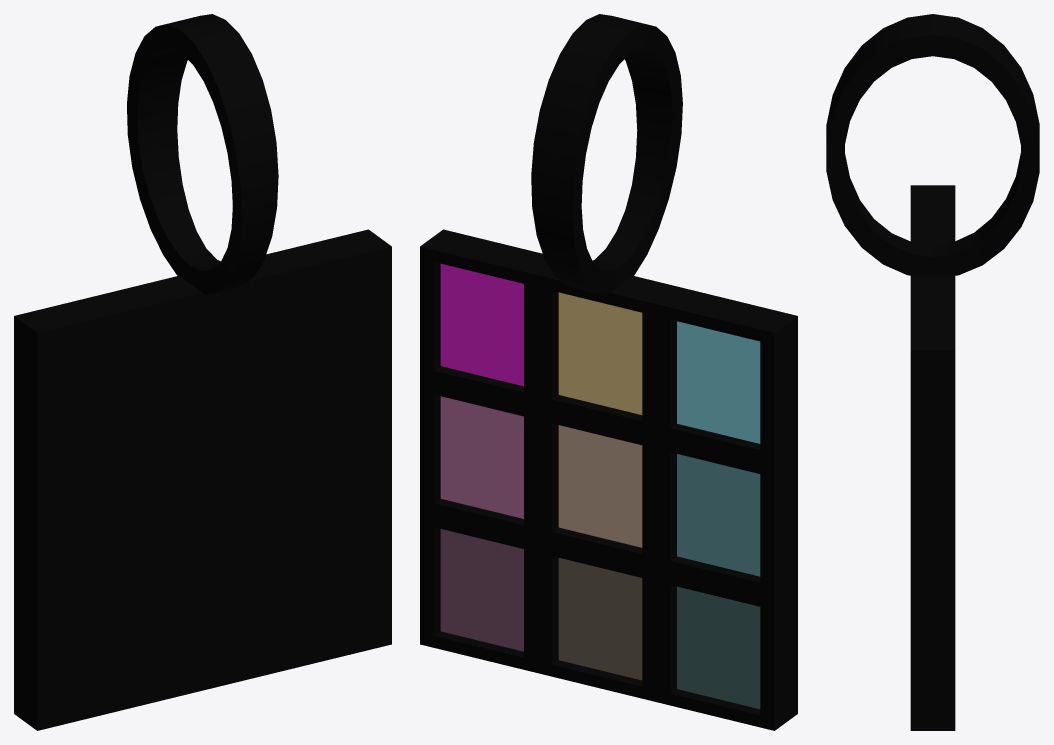
File: Small_Eyeshadow_Palette.fbx
3 views of the same model, side by side, from view 1: azimuth 30°, elevation 25°; view 2: azimuth 150°, elevation 25°; view 3: azimuth 270°, elevation 25° (orthographic). The views are drawn at different scales.
Visible parts, largest first — view 1: Eyeshadow_palette1, Eyeshadow_Palette; view 2: Eyeshadow_palette1, Eyeshadow_Palette; view 3: Eyeshadow_palette1, Eyeshadow_Palette.
Boxes of the visible parts, left/top/right/bottom form: Eyeshadow_palette1: left=14, top=229, right=391, bottom=730; Eyeshadow_Palette: left=127, top=14, right=278, bottom=294; Eyeshadow_palette1: left=420, top=229, right=797, bottom=730; Eyeshadow_Palette: left=531, top=14, right=682, bottom=294; Eyeshadow_palette1: left=910, top=185, right=955, bottom=730; Eyeshadow_Palette: left=826, top=14, right=1039, bottom=275.
Bounding box in the file's own units: 25.23 × 44.42 × 13.74.
